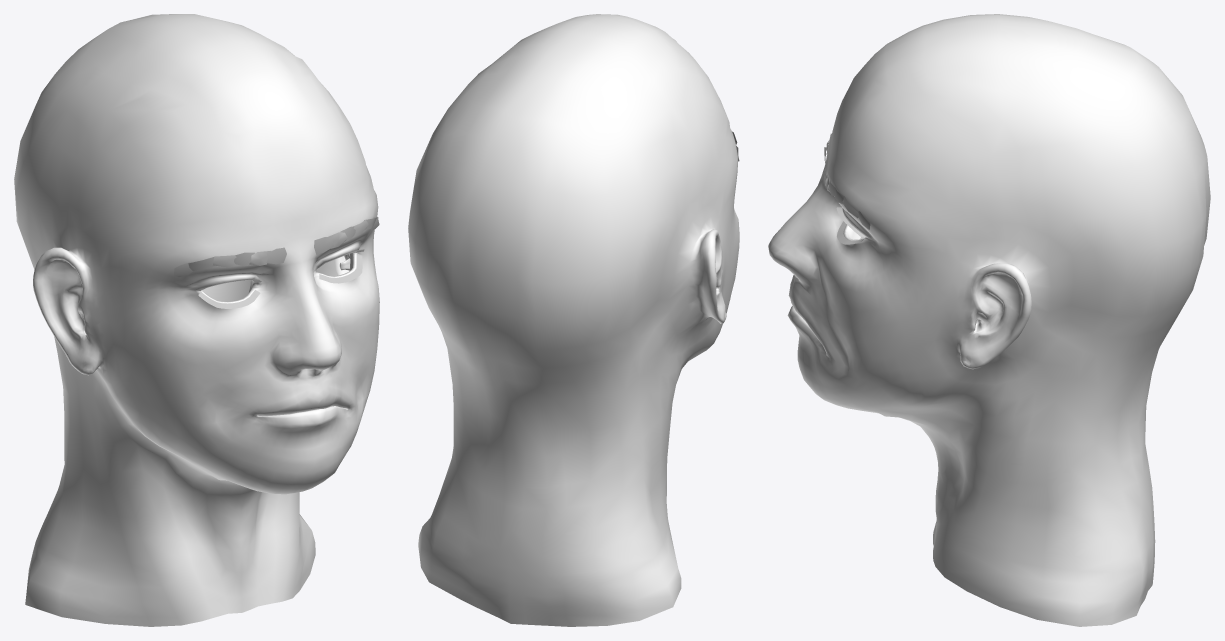
The model's file is mouthFrownLeft.obj.
The picture shows the model from 3 angles, left to right: view 1: azimuth 30°, elevation 25°; view 2: azimuth 150°, elevation 25°; view 3: azimuth 270°, elevation 25°; orthographic projection. The views are drawn at different scales.
Parts seen in each view (by area): view 1: FaceMesh_Plane.003; view 2: FaceMesh_Plane.003; view 3: FaceMesh_Plane.003.
Part boxes in pixels (x1,y1,x2,y2): FaceMesh_Plane.003: (14, 14, 379, 626); FaceMesh_Plane.003: (408, 14, 739, 626); FaceMesh_Plane.003: (768, 14, 1210, 626).
Size of the model in its own units: 1.54 by 2.71 by 1.94.
Materials: 5 (1 with a texture image).
